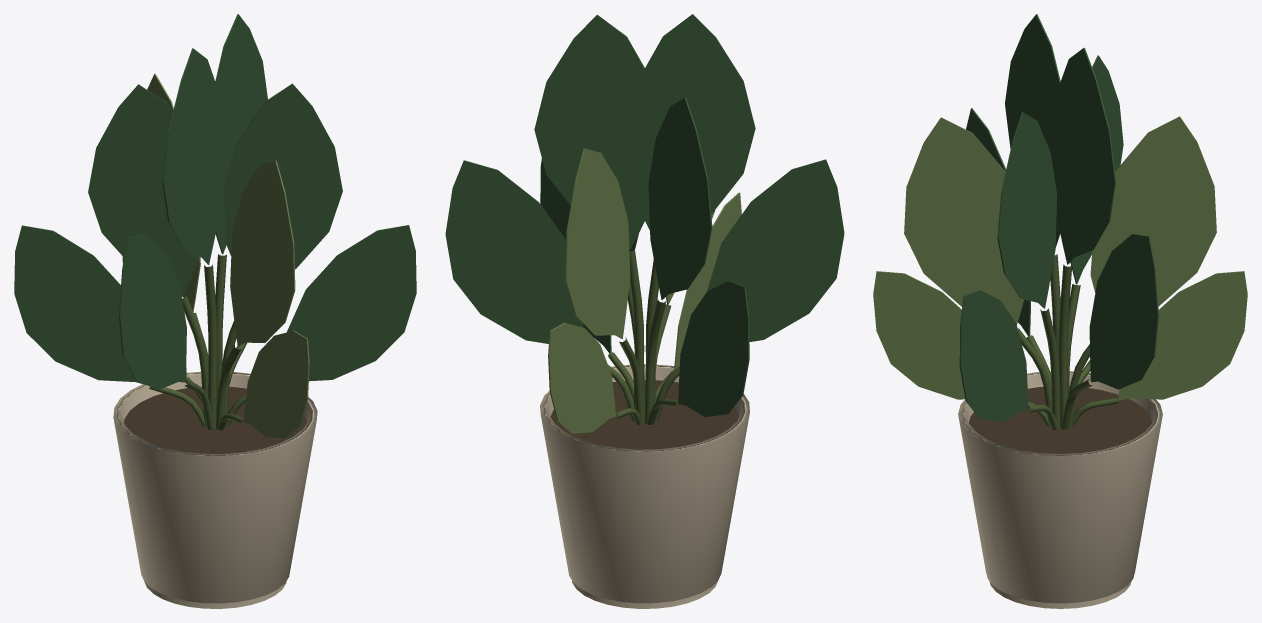
File: mv2-leafy-floor-planter.glb
The picture shows the model from 3 angles, left to right: view 1: azimuth 30°, elevation 25°; view 2: azimuth 150°, elevation 25°; view 3: azimuth 270°, elevation 25°; orthographic projection. The views are drawn at different scales.
Parts seen in each view (by area): view 1: merged-Broad pointed philodendron leaf (×2), Open tapered warm ceramic planter, Recessed soil surface, merged-Curved load-bearing leaf petiole, Recessed ceramic floor-contact ring; view 2: merged-Broad pointed philodendron leaf (×2), Open tapered warm ceramic planter, merged-Curved load-bearing leaf petiole, Recessed soil surface, Recessed ceramic floor-contact ring; view 3: merged-Broad pointed philodendron leaf (×2), Open tapered warm ceramic planter, Recessed soil surface, merged-Curved load-bearing leaf petiole, Recessed ceramic floor-contact ring.
Boxes of the visible parts, left/top/right/bottom form: merged-Broad pointed philodendron leaf (×2): left=14, top=14, right=416, bottom=438; Open tapered warm ceramic planter: left=113, top=371, right=317, bottom=603; Recessed soil surface: left=124, top=386, right=307, bottom=453; merged-Curved load-bearing leaf petiole: left=149, top=254, right=246, bottom=430; Recessed ceramic floor-contact ring: left=144, top=581, right=286, bottom=608; merged-Broad pointed philodendron leaf (×2): left=445, top=14, right=844, bottom=433; Open tapered warm ceramic planter: left=540, top=364, right=749, bottom=603; merged-Curved load-bearing leaf petiole: left=608, top=249, right=679, bottom=425; Recessed soil surface: left=550, top=380, right=738, bottom=449; Recessed ceramic floor-contact ring: left=572, top=580, right=718, bottom=608; merged-Broad pointed philodendron leaf (×2): left=873, top=14, right=1247, bottom=422; Open tapered warm ceramic planter: left=958, top=371, right=1162, bottom=603; Recessed soil surface: left=969, top=386, right=1151, bottom=453; merged-Curved load-bearing leaf petiole: left=1018, top=254, right=1118, bottom=429; Recessed ceramic floor-contact ring: left=989, top=581, right=1131, bottom=608.
Size of the model in its own units: 0.8542 by 1.48 by 0.9144.
